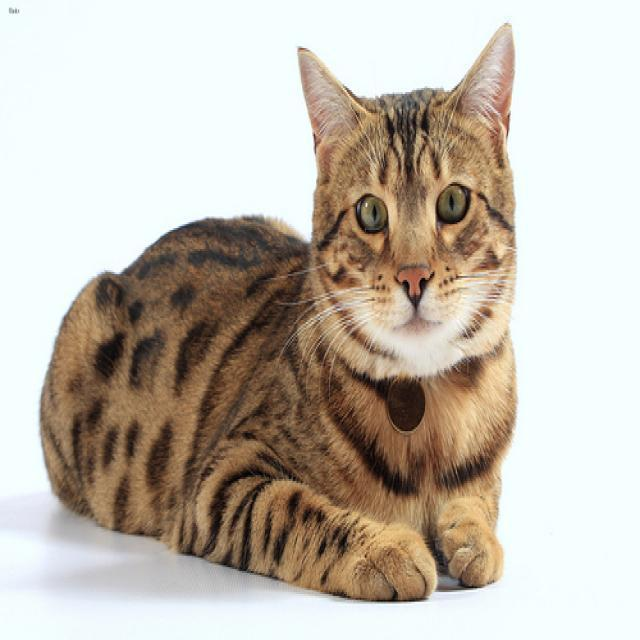Bengal: (294, 21, 512, 356)
